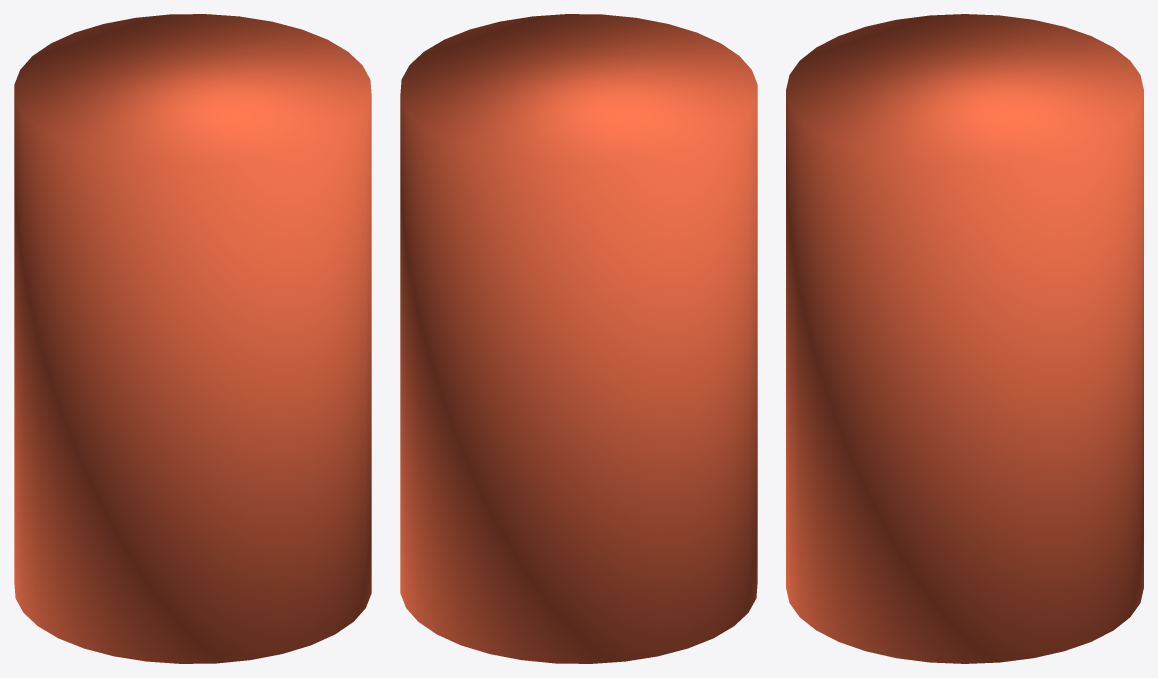
Rendered from Tabung Normal.glb.
The picture shows the model from 3 angles, left to right: view 1: azimuth 30°, elevation 25°; view 2: azimuth 150°, elevation 25°; view 3: azimuth 270°, elevation 25°; orthographic projection.
Visible parts, largest first — view 1: Cylinder; view 2: Cylinder; view 3: Cylinder.
Part boxes in pixels (x1,y1,x2,y2): Cylinder: (14, 14, 371, 663); Cylinder: (400, 14, 757, 663); Cylinder: (786, 14, 1143, 663).
Size of the model in its own units: 2 by 3.08 by 2.
